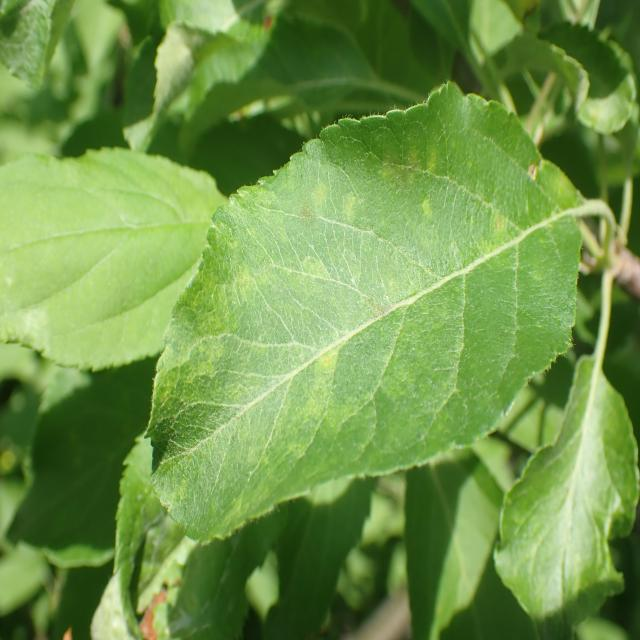scab: (136, 134, 545, 502)
